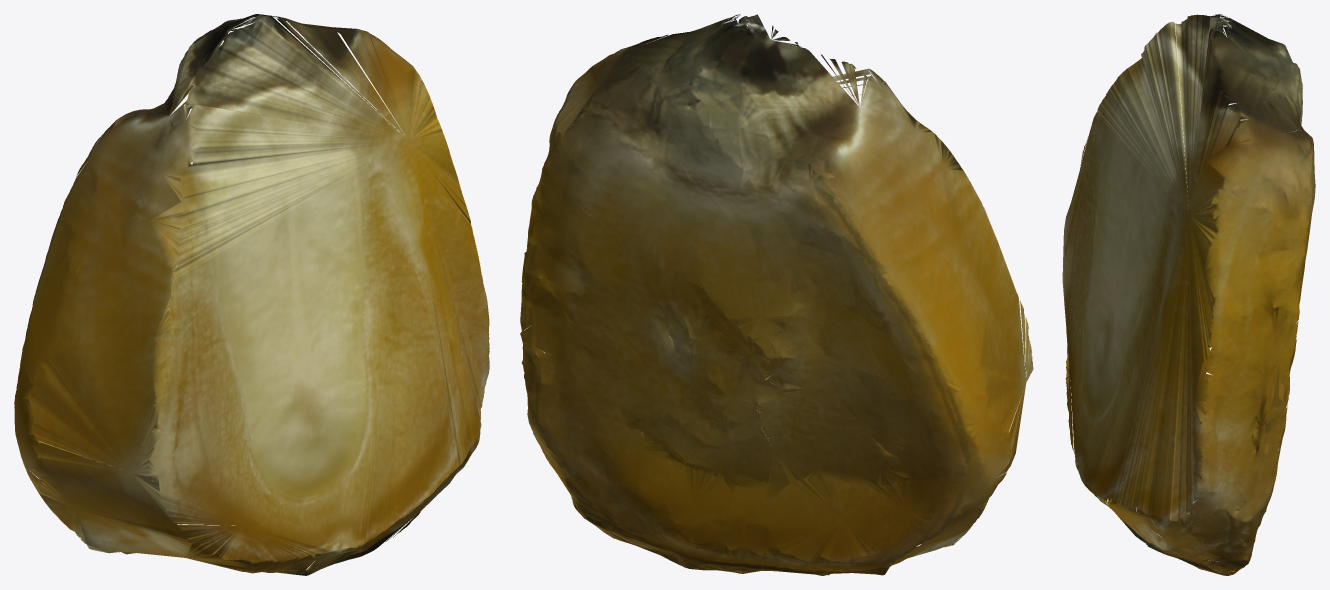
File: LightKernal.glb
3 views of the same model, side by side, from view 1: azimuth 30°, elevation 25°; view 2: azimuth 150°, elevation 25°; view 3: azimuth 270°, elevation 25° (orthographic). The views are drawn at different scales.
Parts seen in each view (by area): view 1: mmGroup0; view 2: mmGroup0; view 3: mmGroup0.
Part boxes in pixels (x1,y1,x2,y2): mmGroup0: (14, 14, 489, 575); mmGroup0: (520, 14, 1033, 575); mmGroup0: (1062, 14, 1315, 575).
Size of the model in its own units: 0.0903 by 0.1025 by 0.0461.
Materials: 1 (1 with a texture image).
